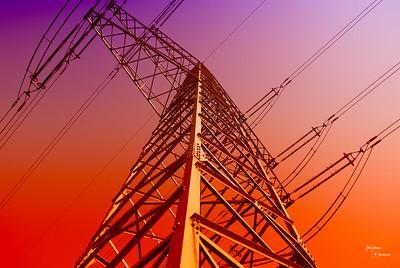power_tower: (66, 1, 324, 268)
